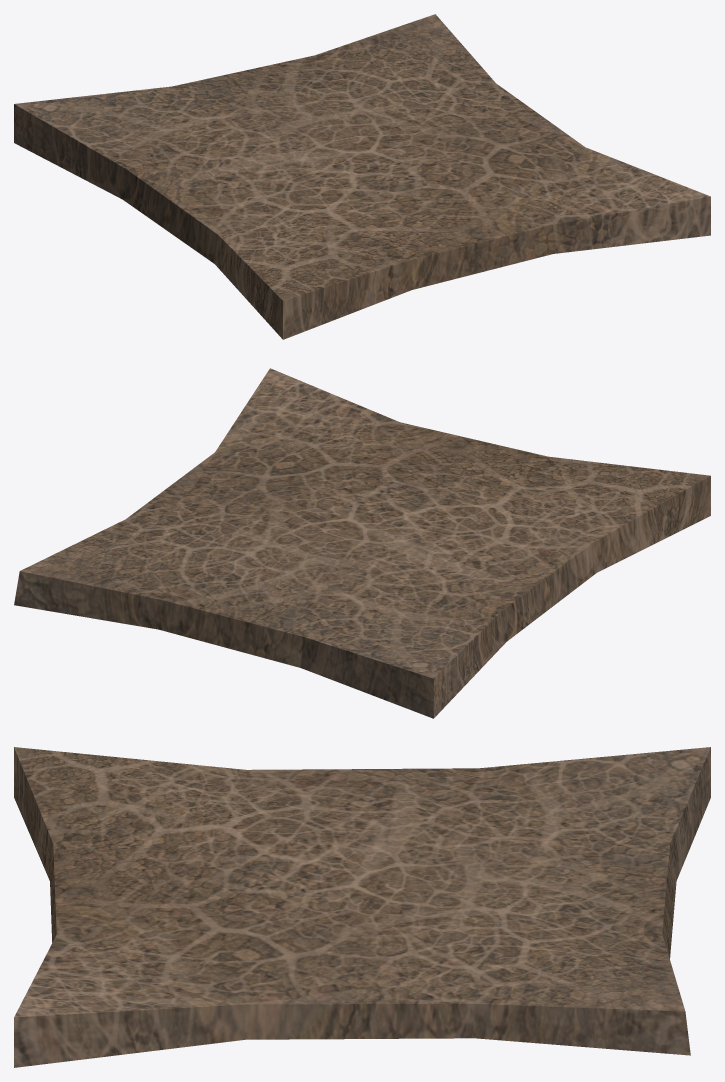
Rendered from stone.fbx.
3 renders of one model, top to bottom at view 1: azimuth 30°, elevation 25°; view 2: azimuth 150°, elevation 25°; view 3: azimuth 270°, elevation 25°, orthographic. The views are drawn at different scales.
Parts seen in each view (by area): view 1: Box001; view 2: Box001; view 3: Box001.
Boxes of the visible parts, <box> form: Box001: <box>14,14,710,339</box>; Box001: <box>14,368,710,718</box>; Box001: <box>14,747,710,1067</box>.
Size of the model in its own units: 7.02 by 0.6111 by 7.64.
